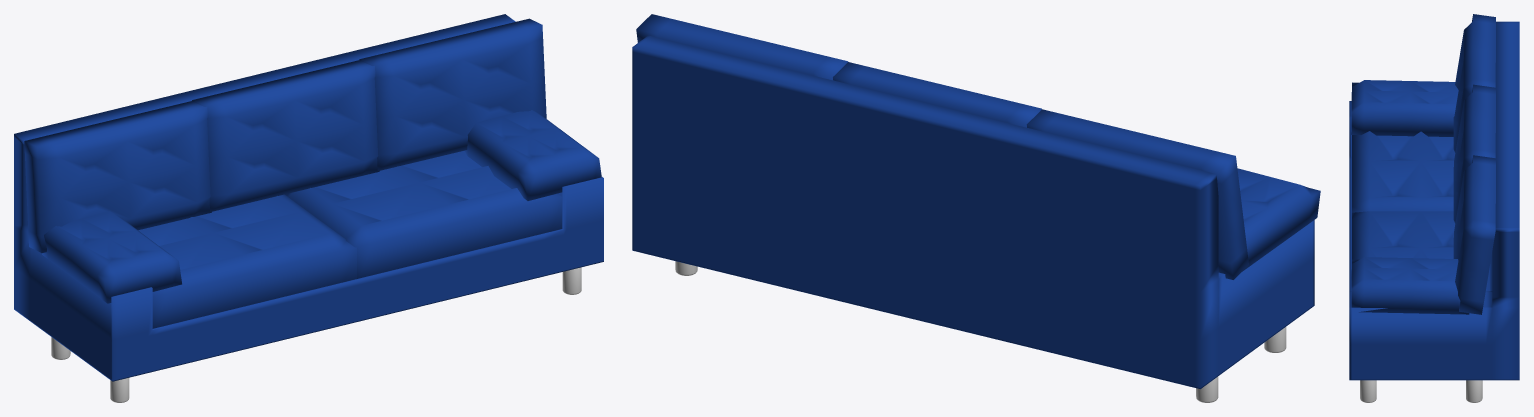
Rendered from blue.gltf.
3 views of the same model, side by side, from view 1: azimuth 30°, elevation 25°; view 2: azimuth 150°, elevation 25°; view 3: azimuth 270°, elevation 25° (orthographic). The views are drawn at different scales.
Visible parts, largest first — view 1: Couch, Plane003, Plane, Plane005, Plane004, Plane001, Plane006, Plane007; view 2: Couch, Plane005, Plane006, Plane004, Plane003; view 3: Couch, Plane001, Plane007, Plane006, Plane004, Plane, Plane003, Plane005, Circle001, Circle.
Boxes of the visible parts, bbox=[...] form: Couch: bbox=[14, 14, 603, 381]; Plane003: bbox=[192, 60, 379, 211]; Plane: bbox=[285, 150, 562, 278]; Plane005: bbox=[24, 101, 211, 252]; Plane004: bbox=[359, 18, 546, 170]; Plane001: bbox=[138, 194, 356, 328]; Plane006: bbox=[42, 211, 181, 303]; Plane007: bbox=[465, 110, 601, 200]; Couch: bbox=[632, 35, 1314, 389]; Plane005: bbox=[1026, 109, 1248, 279]; Plane006: bbox=[1237, 168, 1320, 271]; Plane004: bbox=[636, 14, 848, 80]; Plane003: bbox=[833, 62, 1041, 127]; Couch: bbox=[1349, 21, 1519, 380]; Plane001: bbox=[1352, 131, 1455, 212]; Plane007: bbox=[1351, 257, 1469, 314]; Plane006: bbox=[1351, 80, 1458, 136]; Plane004: bbox=[1453, 155, 1495, 314]; Plane: bbox=[1352, 211, 1490, 291]; Plane003: bbox=[1453, 84, 1495, 223]; Plane005: bbox=[1453, 14, 1495, 152]; Circle001: bbox=[1466, 380, 1482, 402]; Circle: bbox=[1360, 380, 1376, 402].
Size of the model in its own units: 5.96 by 2.41 by 2.
